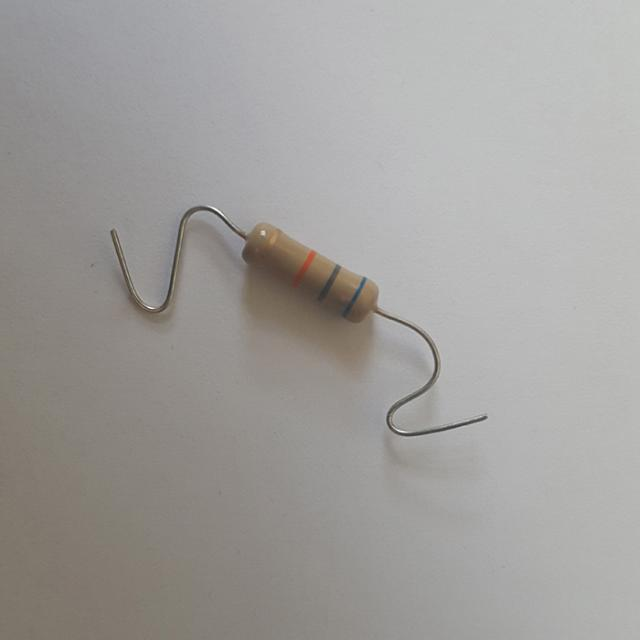blue: (343, 276, 367, 318)
gold: (261, 232, 278, 255)
grey: (318, 263, 340, 301)
orange: (293, 249, 315, 285)
resistor: (218, 199, 396, 348)
